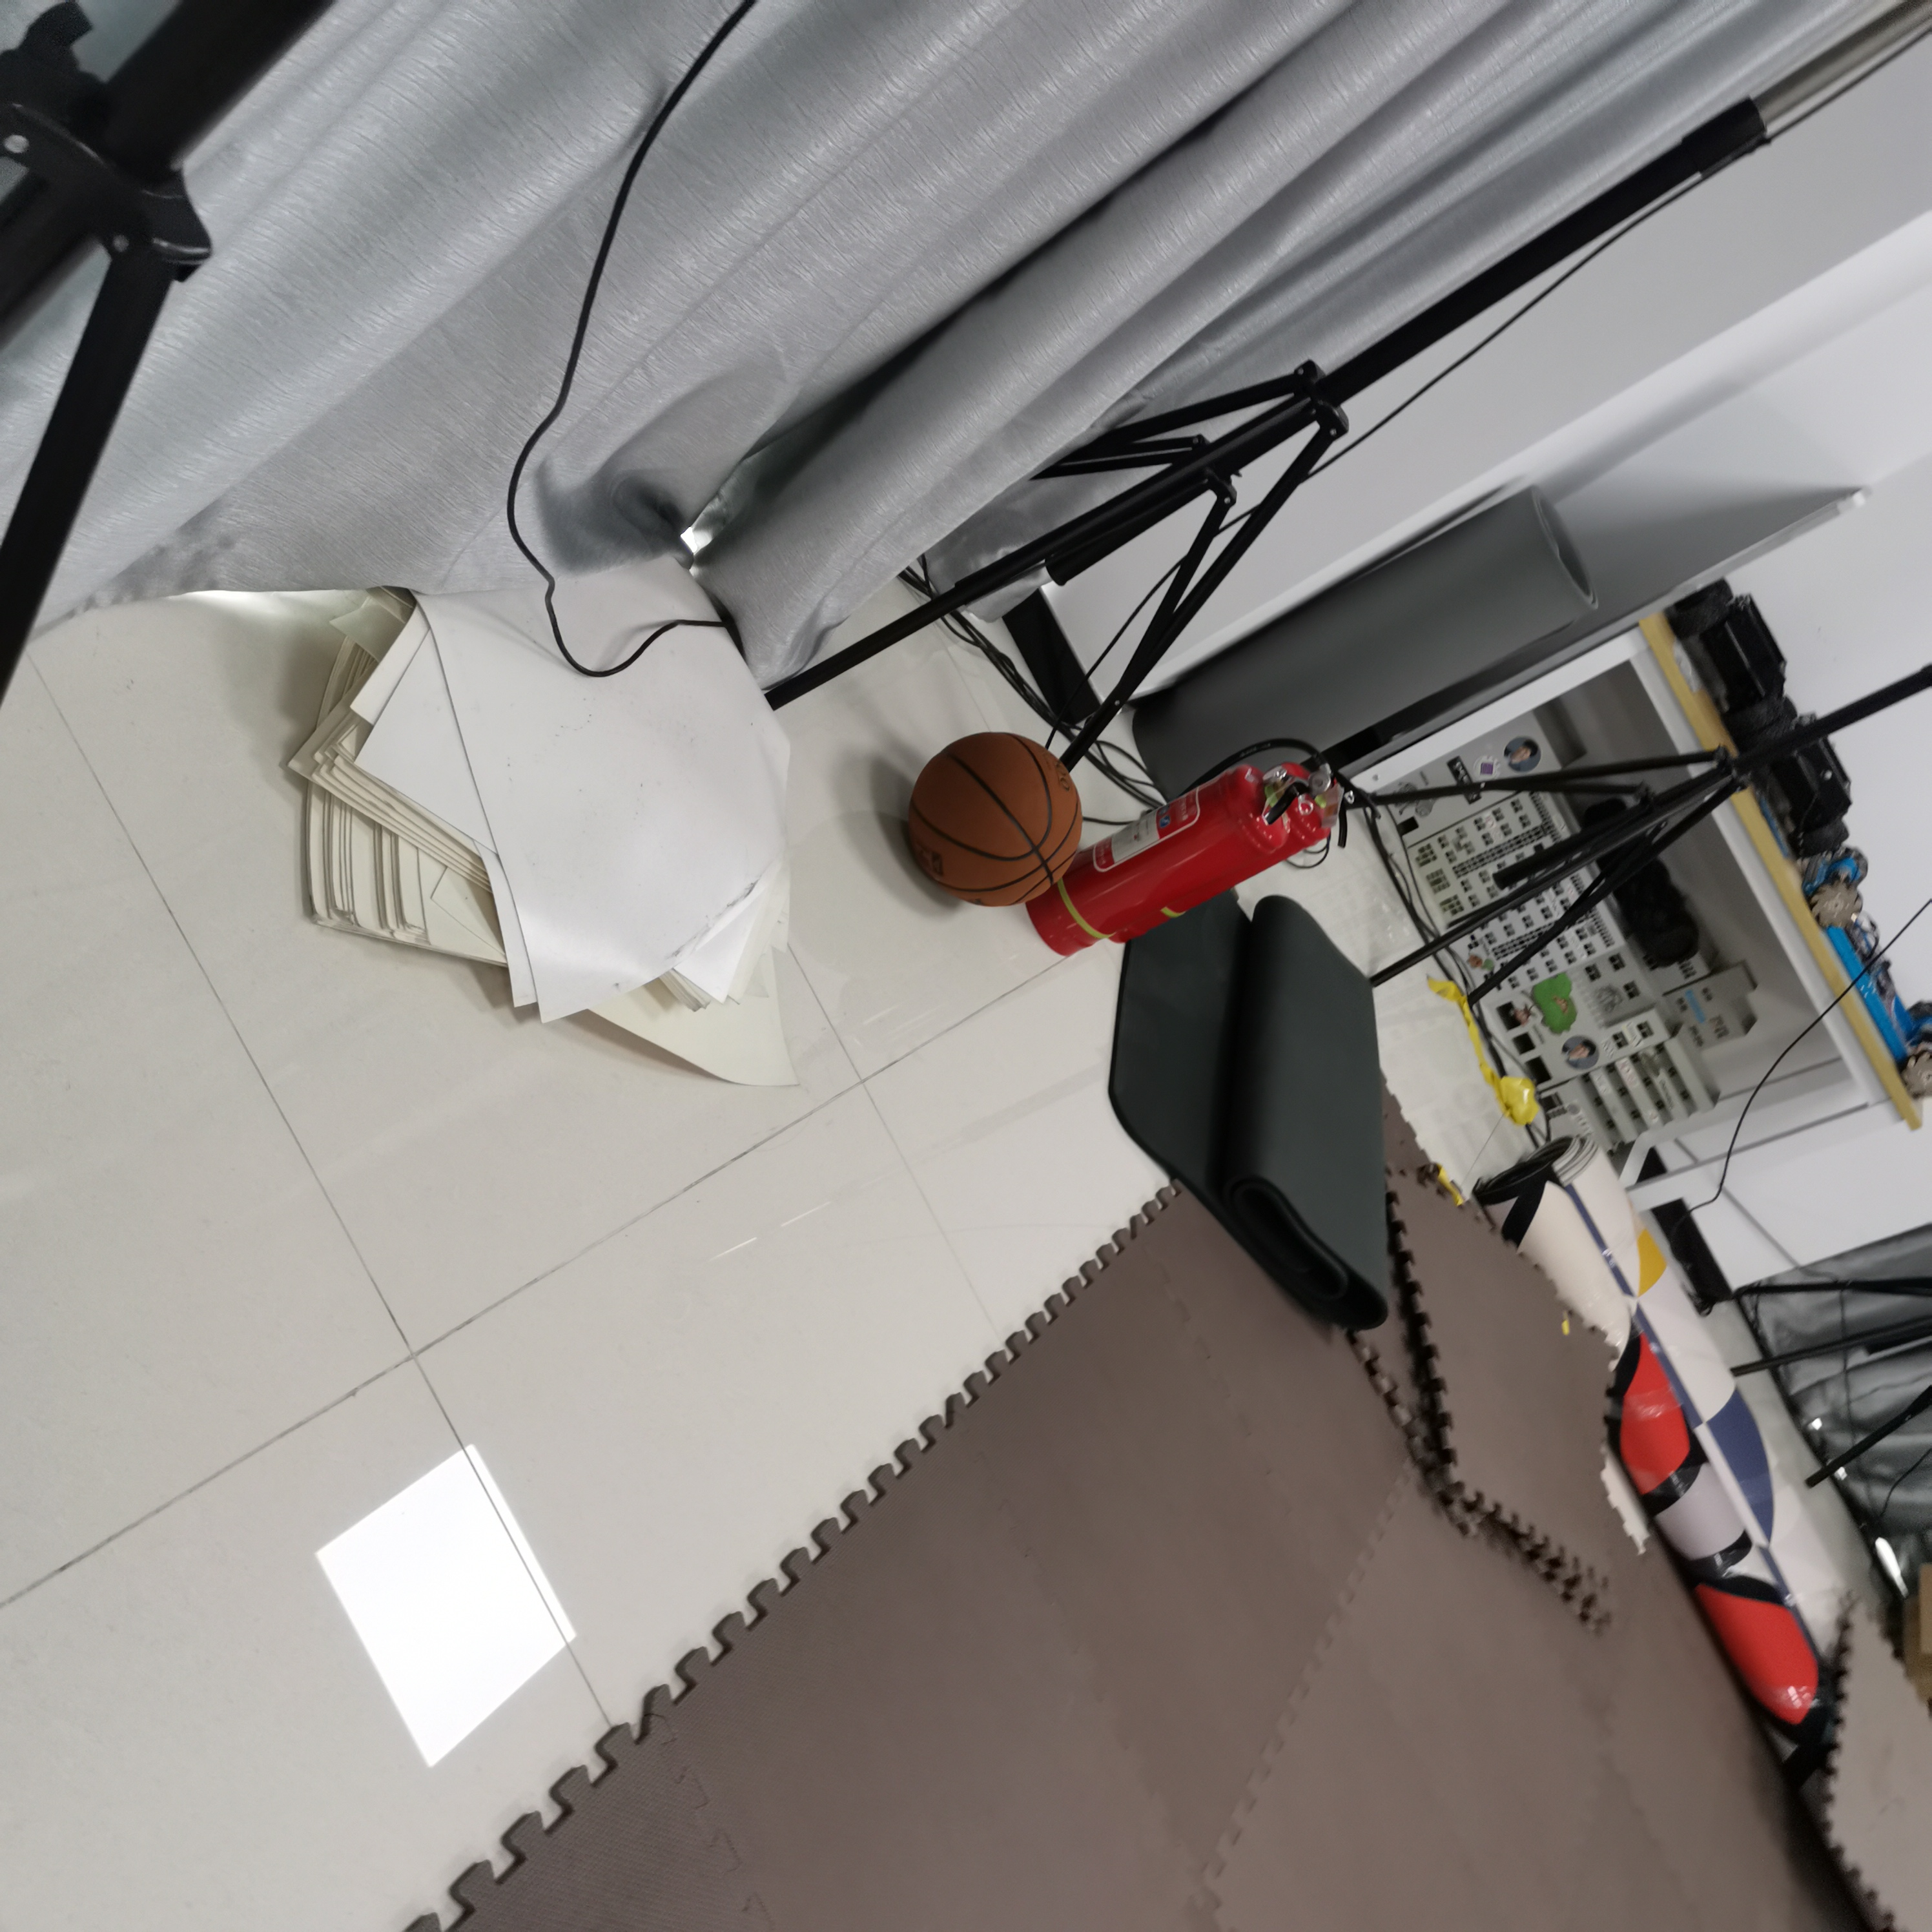basketball: (906, 732, 1081, 909)
